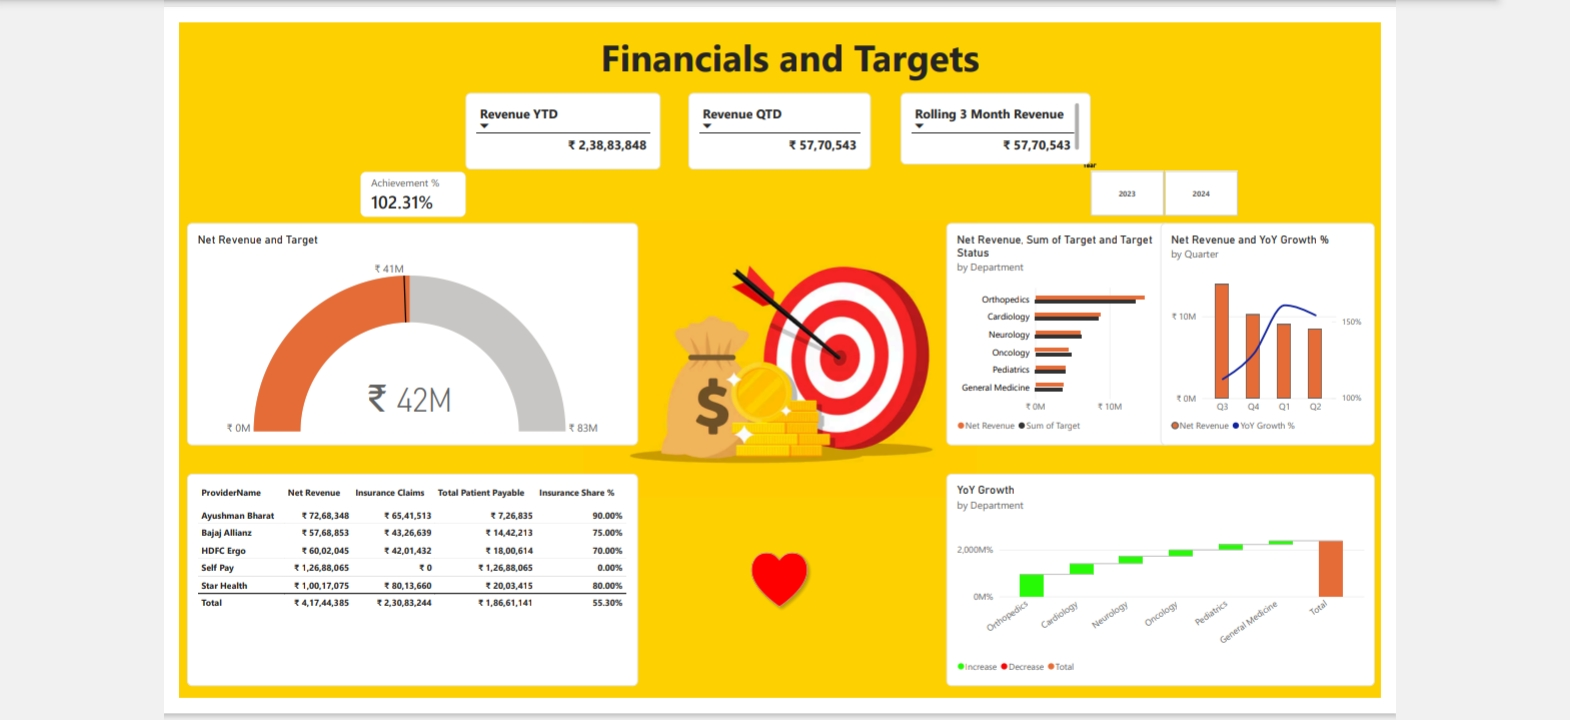

The dashboard page shown, as its layout file describes it:
{"tool":"powerbi","page":{"name":"Financials and Targets","canvas":[1920,1080],"ordinal":3},"visuals":[{"type":"gauge","fields":{"TargetValue":["_Measures.Target"],"Y":["_Measures.Net Revenue"]},"box":[13.3,320.5,719.6,355.1],"z":0},{"type":"cardVisual","fields":{"Data":["_Measures.Achievement %"]},"box":[290,239.4,167.6,71.8],"z":1000},{"type":"clusteredBarChart","fields":{"Category":["DimDepartment.Department"],"Y":["_Measures.Net Revenue","Sum(Targets.Target)"]},"box":[1226.3,320.5,356.5,355.1],"z":2000},{"type":"lineClusteredColumnComboChart","fields":{"Category":["DimDate.Quarter"],"Y":["_Measures.Net Revenue"],"Y2":["_Measures.YoY Growth %"]},"box":[1568.1,320.5,341.8,355.1],"z":3000},{"type":"slicer","fields":{"Values":["DimDate.Year"]},"box":[1436.5,222.1,274,89.1],"z":4000},{"type":"waterfallChart","fields":{"Category":["DimDepartment.Department"],"Y":["_Measures.YoY Growth"]},"box":[1226.3,722.2,683.6,339.2],"z":5000},{"type":"tableEx","fields":{"Values":["DimInsurance.ProviderName","_Measures.Net Revenue","_Measures.Insurance Claims","_Measures.Total Patient Payable","_Measures.Insurance Share %"]},"box":[13.3,722,719.6,339.2],"z":6000},{"type":"textbox","box":[674.3,14.6,841.9,122.4],"z":7000},{"type":"tableEx","fields":{"Values":["_Measures.Revenue YTD"]},"box":[457.5,113.1,311.2,122.4],"z":8000},{"type":"tableEx","fields":{"Values":["_Measures.Revenue QTD"]},"box":[814,113.1,291.3,122.4],"z":9000},{"type":"tableEx","fields":{"Values":["_Measures.Rolling 3 Month Revenue"]},"box":[1153.2,113.1,303.3,114.4],"z":10000},{"type":"actionButton","title":"Reset Filters.","box":[905.7,840,107.1,102.9],"z":10001}]}

Visuals, with their boxes on the page's 1920x1080 design canvas (x1, y1, x2, y2). These are canvas units, not pixel positions in the 1570x720 screenshot, which may show the page scaled, cropped or inside an application window:
gauge - _Measures.Target x _Measures.Net Revenue: [13,320,733,676]
cardVisual - _Measures.Achievement %: [290,239,458,311]
clusteredBarChart - DimDepartment.Department x _Measures.Net Revenue: [1226,320,1583,676]
lineClusteredColumnComboChart - DimDate.Quarter x _Measures.Net Revenue: [1568,320,1910,676]
slicer - DimDate.Year: [1436,222,1710,311]
waterfallChart - DimDepartment.Department x _Measures.YoY Growth: [1226,722,1910,1061]
tableEx - DimInsurance.ProviderName x _Measures.Net Revenue: [13,722,733,1061]
textbox: [674,15,1516,137]
tableEx - _Measures.Revenue YTD: [458,113,769,236]
tableEx - _Measures.Revenue QTD: [814,113,1105,236]
tableEx - _Measures.Rolling 3 Month Revenue: [1153,113,1456,228]
"Reset Filters." actionButton: [906,840,1013,943]
